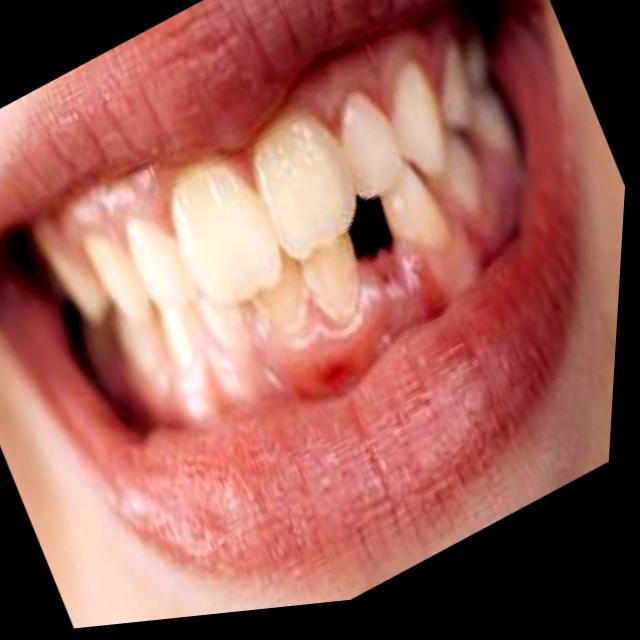hypodontia: (256, 180, 455, 363)
